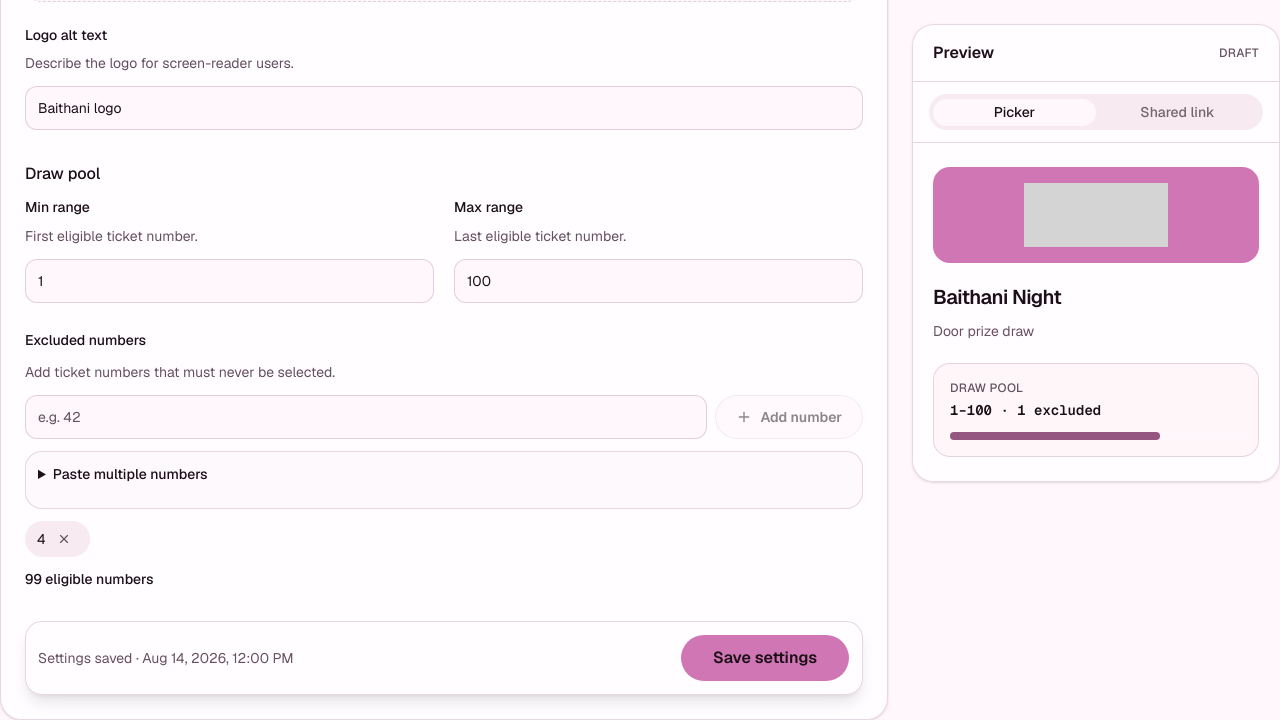
Test: SettingsForm excluded-number editor › adds whole numbers with the action button and Enter
(page scrolled)
Type "11" into the number field labelled "Excluded numbers" at [366, 417], box [25,395,707,439]
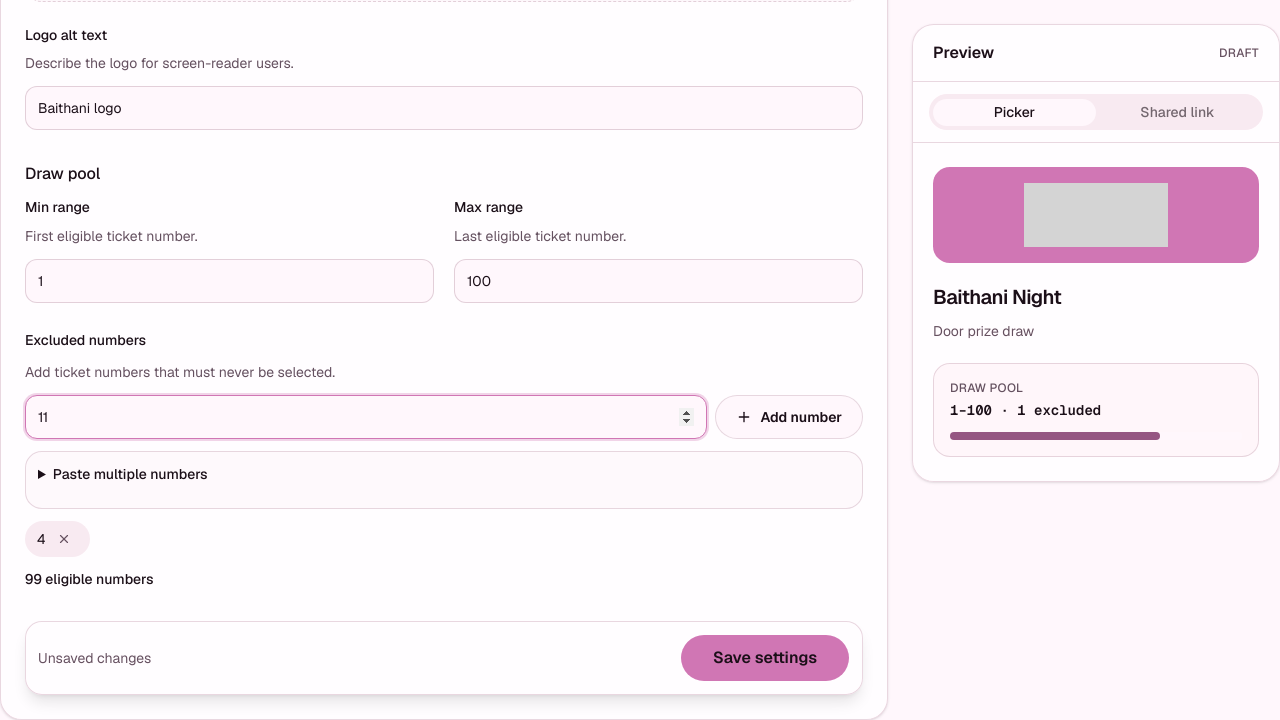
Click the button "Add number" at [789, 417], box [715,395,863,439]
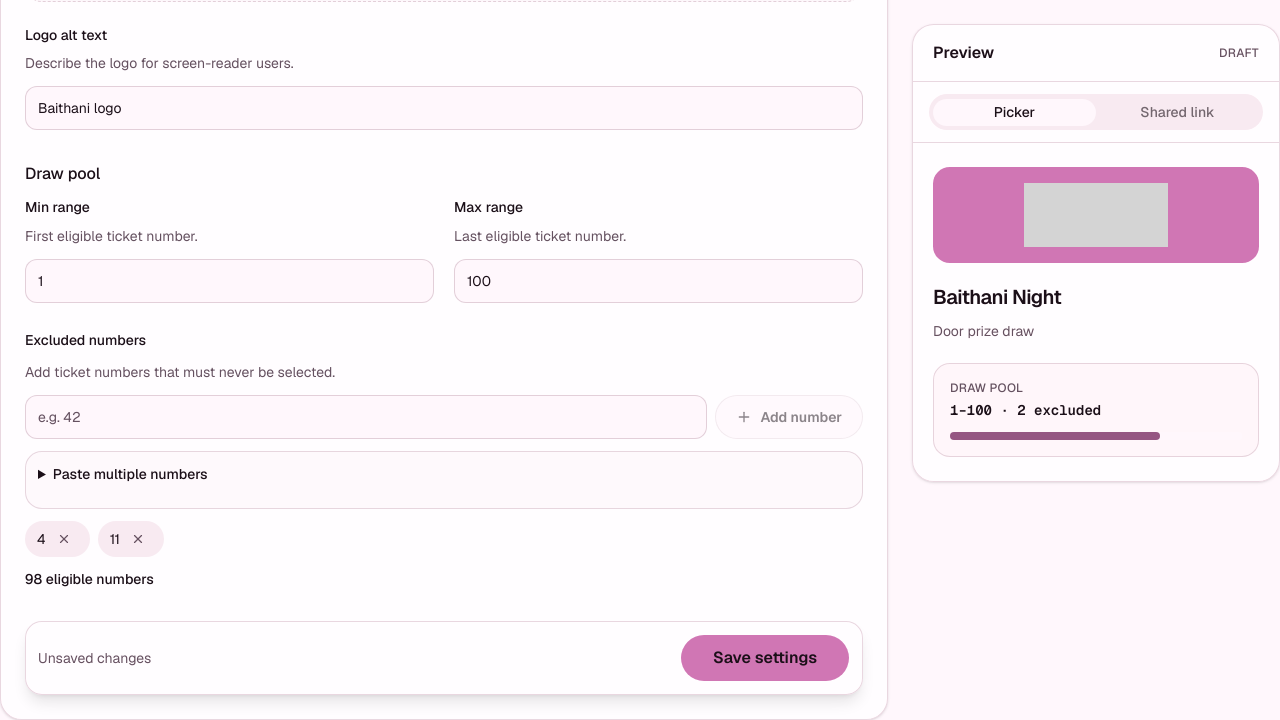
Type "12" into the number field labelled "Excluded numbers" at [366, 417], box [25,395,707,439]
Then press Enter
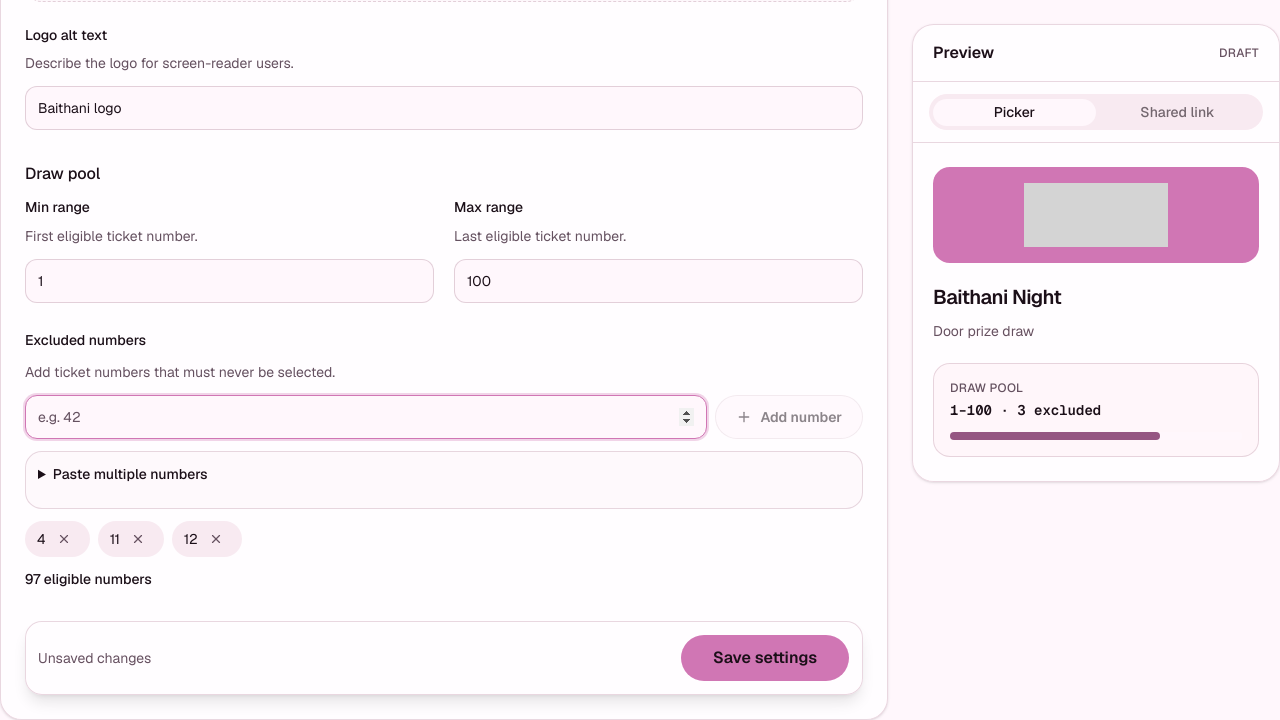
Check: the button named "Remove 11" is shown, box [124,525,152,553]
Check: the button named "Remove 12" is shown, box [202,525,230,553]
Check: the text "97 eligible numbers" is shown, box [25,570,152,588]
